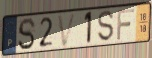1: (83, 10, 94, 46)
2: (39, 16, 54, 49)
F: (116, 7, 136, 42)
S: (17, 17, 37, 52), (97, 10, 115, 43)
V: (56, 11, 78, 49)
